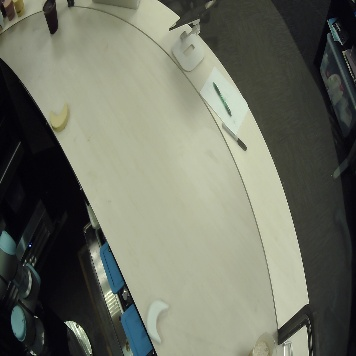full_cup: (251, 332, 277, 356), (41, 1, 58, 34), (1, 1, 15, 20), (11, 1, 24, 16)
puck: (146, 299, 169, 344), (48, 103, 70, 131)
